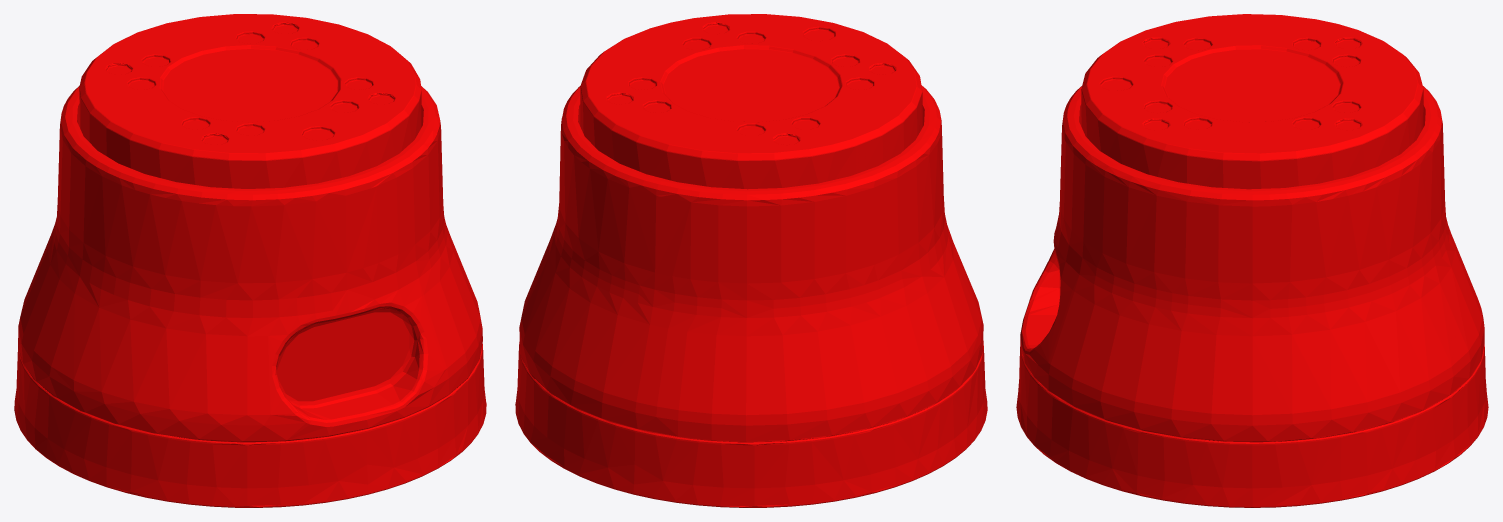
3 views of the same model, side by side, from view 1: azimuth 30°, elevation 25°; view 2: azimuth 150°, elevation 25°; view 3: azimuth 270°, elevation 25° (orthographic).
Parts seen in each view (by area): view 1: A0509_6_0; view 2: A0509_6_0; view 3: A0509_6_0.
Part boxes in pixels (bbox=[...]): A0509_6_0: bbox=[14, 14, 486, 507]; A0509_6_0: bbox=[515, 14, 987, 507]; A0509_6_0: bbox=[1016, 14, 1488, 507].
Bounding box in the file's own units: 86.9 × 86.9 × 66.
